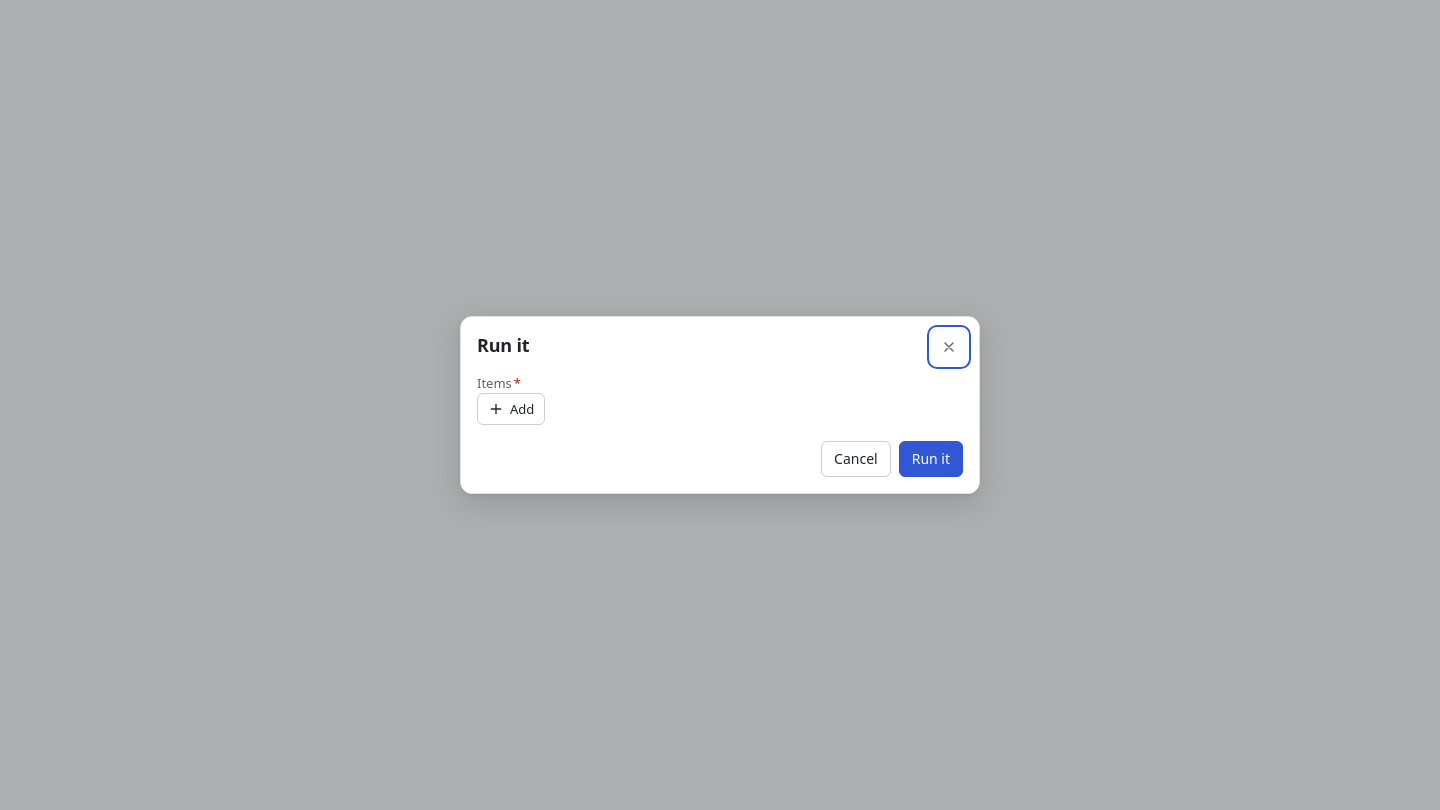
a list of rows with a link and a decimal › respects the item cap with a plain message, and removing a row frees it
Step 1. Click the button "Add" → (511, 409), box [477,393,545,425]
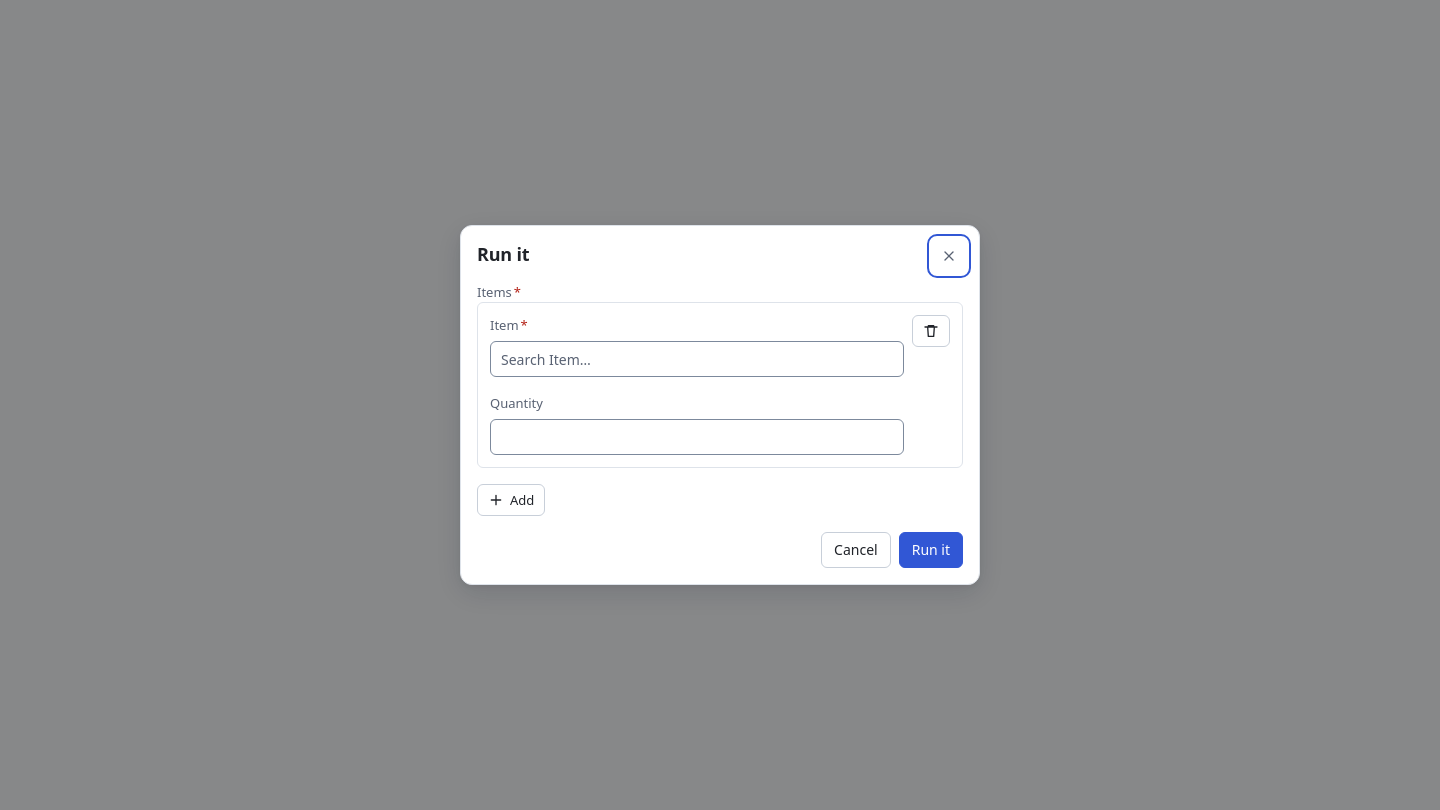
Step 2. Click the button "Add" → (511, 500), box [477,484,545,516]
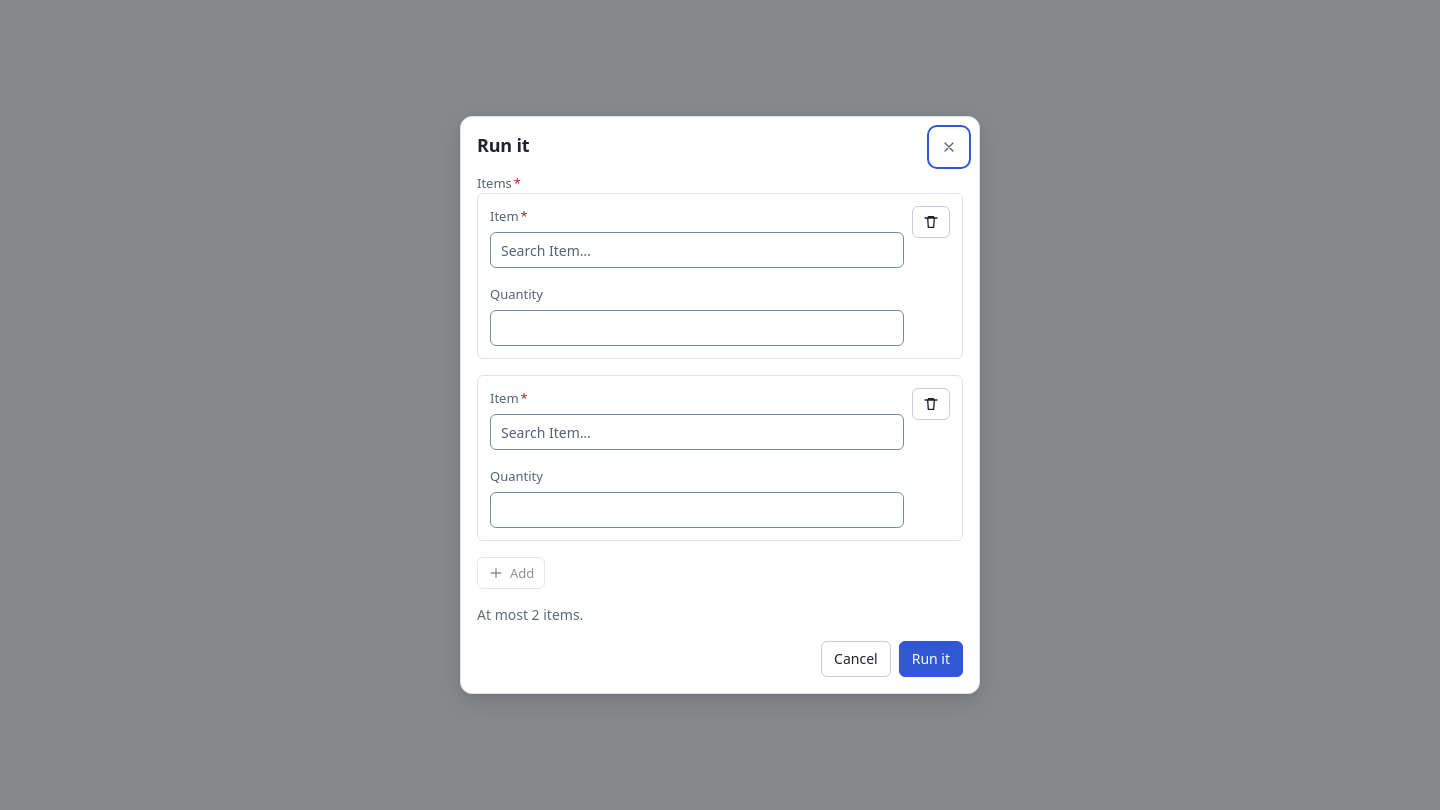
Check: the button "Add" is disabled, box [477,557,545,589]
Check: the text "At most 2 items." is shown, box [477,605,583,624]
Step 3. Click the button named "Remove Items 1" → (931, 222), box [912,206,950,238]
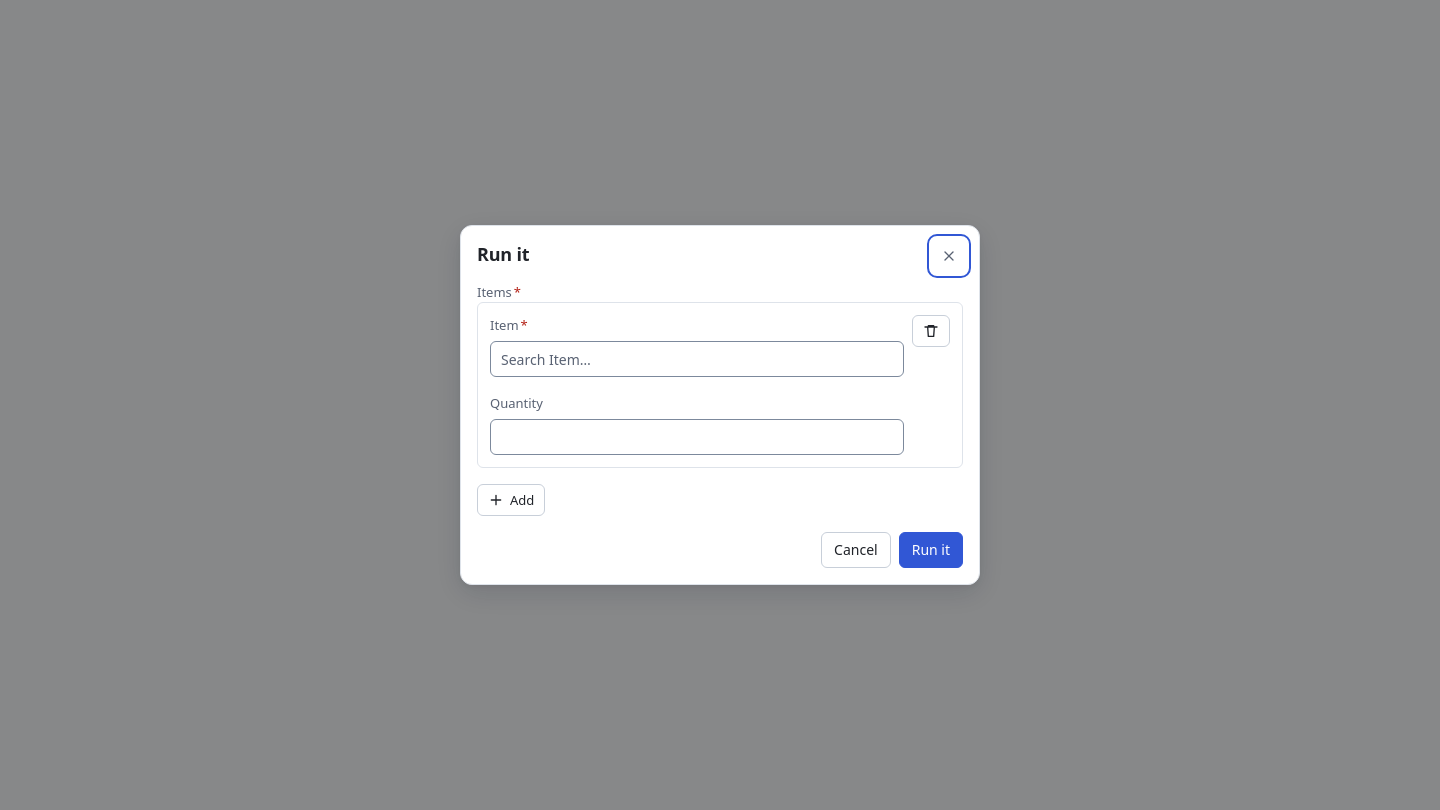
Check: the button "Add" is enabled, box [477,484,545,516]
